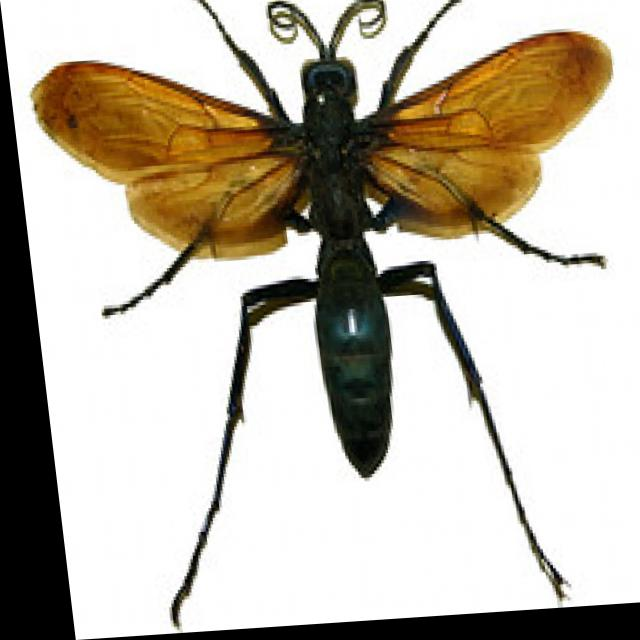Guepe: (10, 0, 639, 637)
